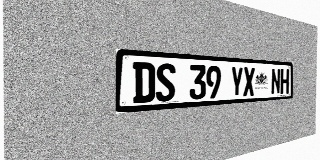3: (190, 64, 206, 100)
9: (206, 65, 221, 99)
D: (133, 62, 155, 103)
H: (280, 69, 289, 94)
N: (271, 68, 280, 95)
S: (156, 63, 176, 102)
X: (243, 67, 255, 96)
Y: (230, 66, 243, 97)
